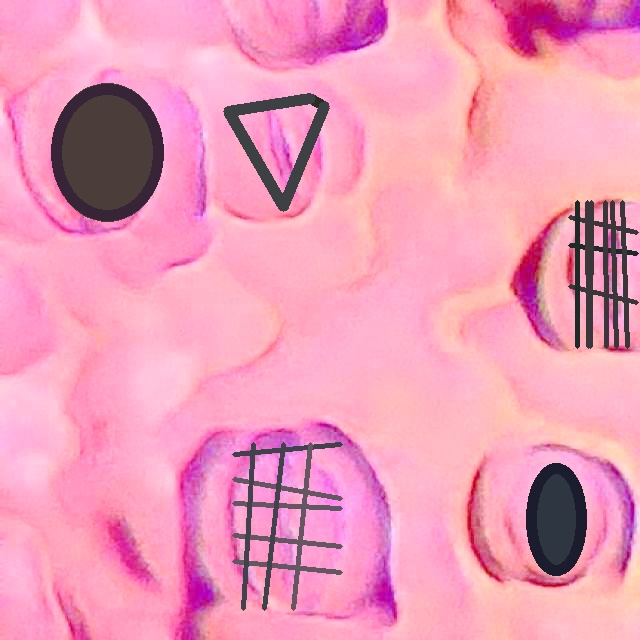close: (51, 83, 162, 221), (527, 463, 586, 575)
open: (233, 442, 342, 609), (223, 93, 328, 210), (569, 200, 637, 348)
